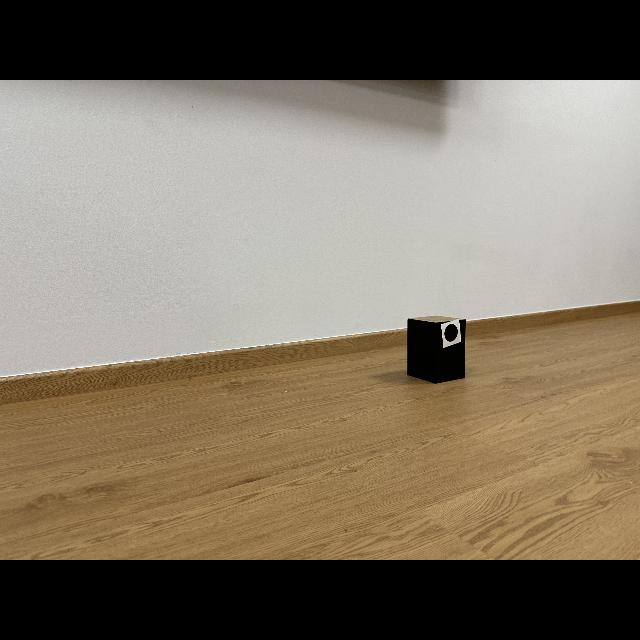CIRCLE: (444, 324, 458, 341)
